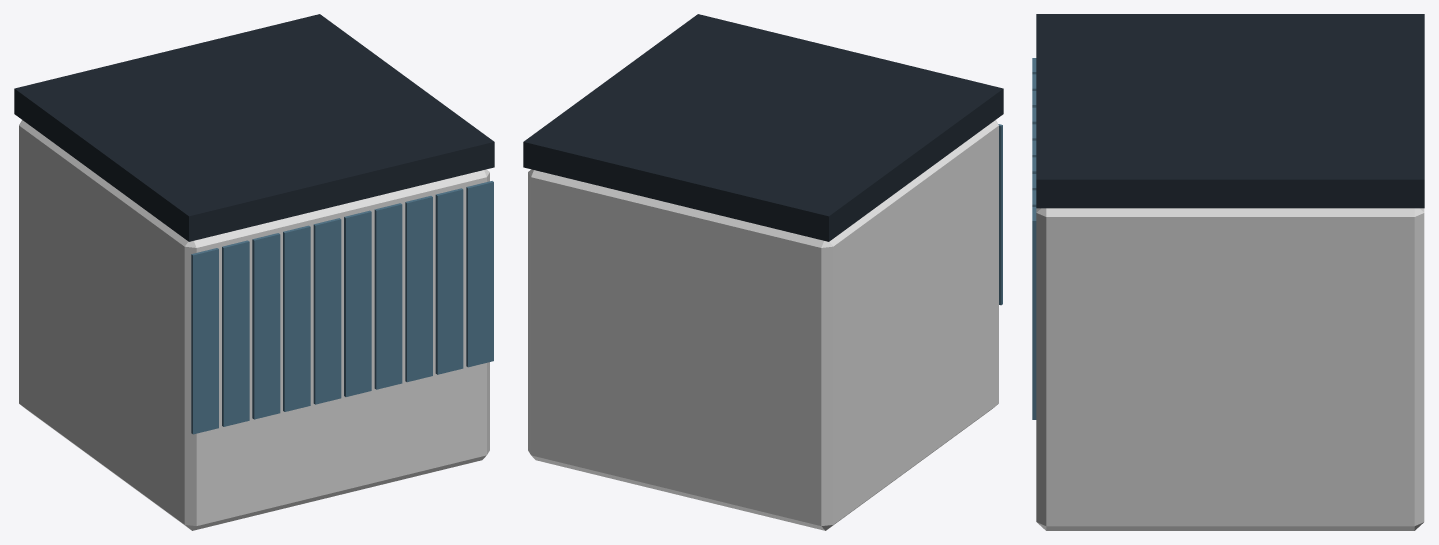
Rendered from press-box.glb.
The picture shows the model from 3 angles, left to right: view 1: azimuth 30°, elevation 25°; view 2: azimuth 150°, elevation 25°; view 3: azimuth 270°, elevation 25°; orthographic projection. The views are drawn at different scales.
Parts seen in each view (by area): view 1: beret/panel-unit; view 2: beret/panel-unit; view 3: beret/panel-unit.
Part boxes in pixels (box(x1,y1,x2,y2)): beret/panel-unit: box(14, 14, 494, 530); beret/panel-unit: box(523, 14, 1003, 530); beret/panel-unit: box(1032, 14, 1424, 530).
Bounding box in the file's own units: 1 × 1 × 1.
